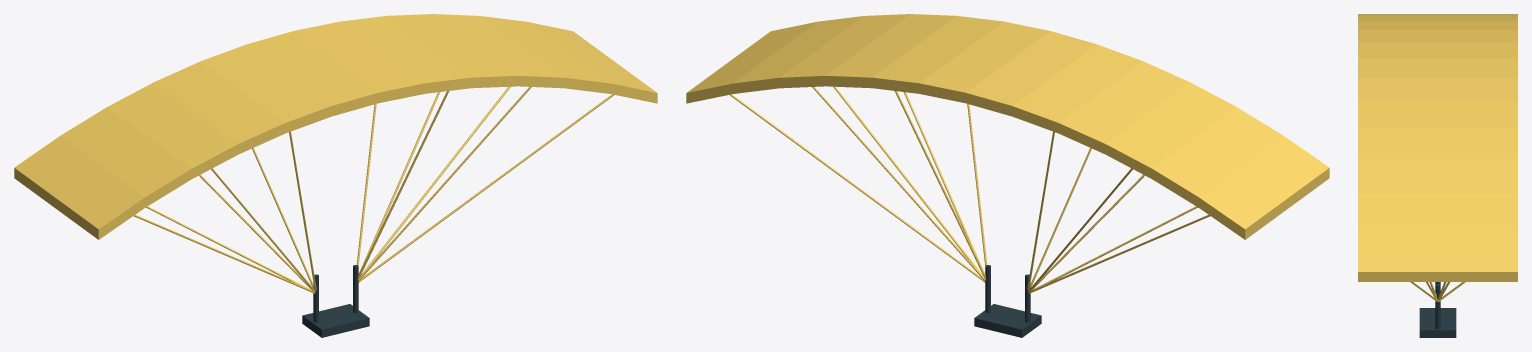
The model's file is parachute-cruiser.glb.
3 renders of one model, left to right at view 1: azimuth 30°, elevation 25°; view 2: azimuth 150°, elevation 25°; view 3: azimuth 270°, elevation 25°, orthographic. The views are drawn at different scales.
Visible parts, largest first — view 1: Parachute cell 00.001, Parachute cell 01.001, Parachute cell 02.001, Parachute cell 03.001, Parachute cell 04.001, Parachute cell 05.001, Parachute cell 06.001, Parachute cell 07.001, Parachute cell 08.001, Parachute cell 09.001, Parachute cell 10.001, Parachute cell 11.001 (+8 smaller); view 2: Parachute cell 00.001, Parachute cell 01.001, Parachute cell 02.001, Parachute cell 03.001, Parachute cell 04.001, Parachute cell 05.001, Parachute cell 06.001, Parachute cell 07.001, Parachute cell 08.001, Parachute cell 09.001, Parachute cell 10.001, Parachute cell 11.001 (+8 smaller); view 3: Parachute cell 11.001, Parachute cell 10.001, Parachute cell 09.001, Parachute cell 08.001, Parachute cell 07.001, Parachute cell 06.001, Parachute cell 05.001, Parachute cell 04.001, Parachute cell 03.001, Parachute cell 02.001, Parachute seat.001, Parachute cell 01.001 (+2 smaller).
Boxes of the visible parts, box(x1,y1,x2,y2) form: Parachute cell 00.001: box(14, 135, 145, 239); Parachute cell 01.001: box(61, 107, 191, 207); Parachute cell 02.001: box(108, 82, 238, 178); Parachute cell 03.001: box(154, 61, 284, 154); Parachute cell 04.001: box(201, 44, 331, 133); Parachute cell 05.001: box(247, 31, 378, 116); Parachute cell 06.001: box(294, 21, 424, 103); Parachute cell 07.001: box(340, 16, 471, 93); Parachute cell 08.001: box(387, 14, 517, 88); Parachute cell 09.001: box(434, 14, 564, 88); Parachute cell 10.001: box(480, 16, 610, 93); Parachute cell 11.001: box(527, 22, 657, 103); Parachute cell 00.001: box(1198, 135, 1329, 239); Parachute cell 01.001: box(1152, 107, 1282, 207); Parachute cell 02.001: box(1105, 82, 1235, 178); Parachute cell 03.001: box(1059, 61, 1189, 154); Parachute cell 04.001: box(1012, 44, 1142, 133); Parachute cell 05.001: box(965, 31, 1096, 116); Parachute cell 06.001: box(919, 21, 1049, 103); Parachute cell 07.001: box(872, 16, 1003, 93); Parachute cell 08.001: box(826, 14, 956, 88); Parachute cell 09.001: box(779, 14, 909, 88); Parachute cell 10.001: box(733, 16, 863, 93); Parachute cell 11.001: box(686, 22, 816, 103); Parachute cell 11.001: box(1358, 230, 1517, 281); Parachute cell 10.001: box(1358, 193, 1517, 230); Parachute cell 09.001: box(1358, 158, 1517, 192); Parachute cell 08.001: box(1358, 128, 1517, 158); Parachute cell 07.001: box(1358, 101, 1517, 128); Parachute cell 06.001: box(1358, 78, 1517, 101); Parachute cell 05.001: box(1358, 58, 1517, 77); Parachute cell 04.001: box(1358, 42, 1517, 58); Parachute cell 03.001: box(1358, 30, 1517, 42); Parachute cell 02.001: box(1358, 21, 1517, 29); Parachute seat.001: box(1419, 308, 1456, 337); Parachute cell 01.001: box(1358, 15, 1517, 20).
Bounding box in the file's own units: 9.94 × 4.47 × 2.6.
